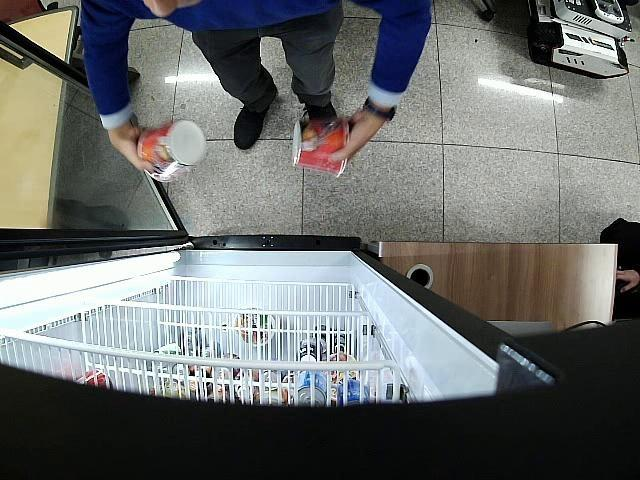01_ShinRamen_L: (138, 119, 208, 183), (291, 116, 349, 177)
